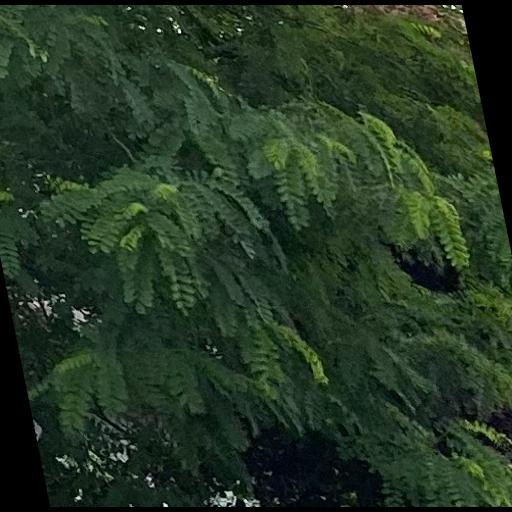tree: (1, 5, 511, 506)
